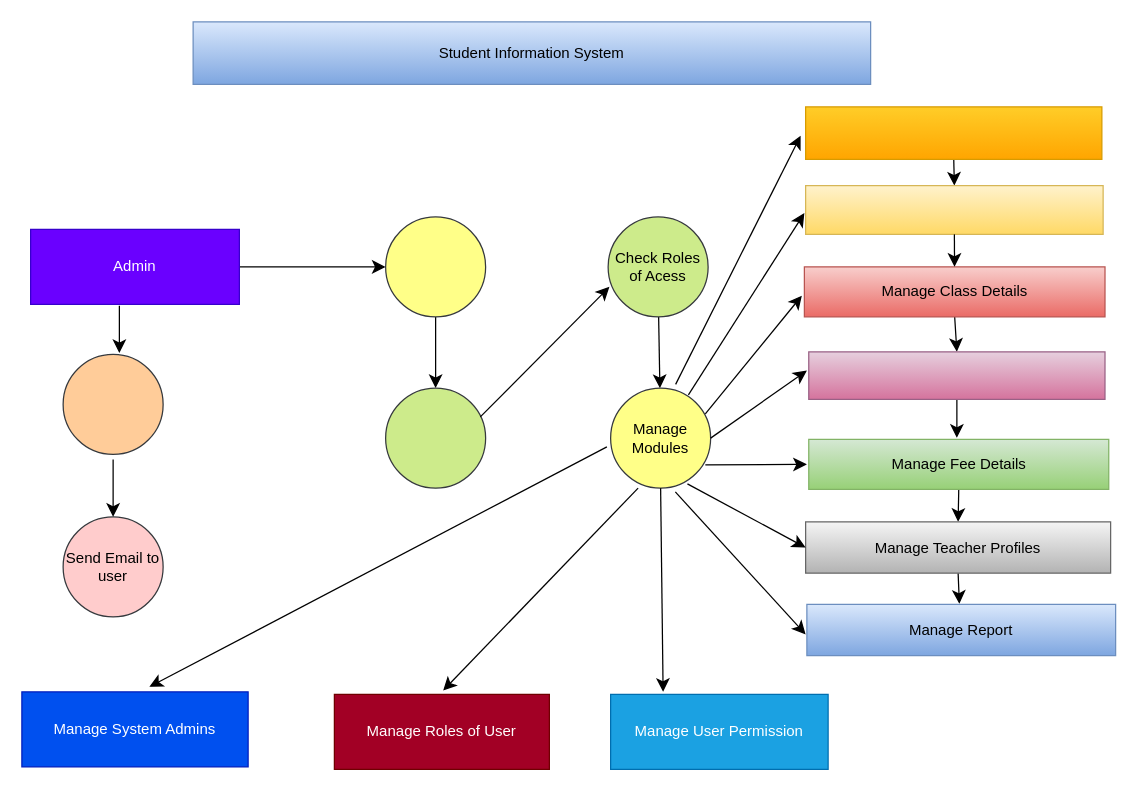
This 1138x791 diagram has some shape labels left out. Here are the shapes that lost their labels. From the top down, the box of each, then its label:
(804, 106, 1102, 159): Manage Timetable Details
(804, 184, 1103, 234): Manage Attendance Details
(384, 216, 486, 317): Login to Systems
(808, 351, 1105, 399): Manage Student Details
(62, 353, 163, 454): Forgot Password
(384, 387, 486, 488): Check Credentials
